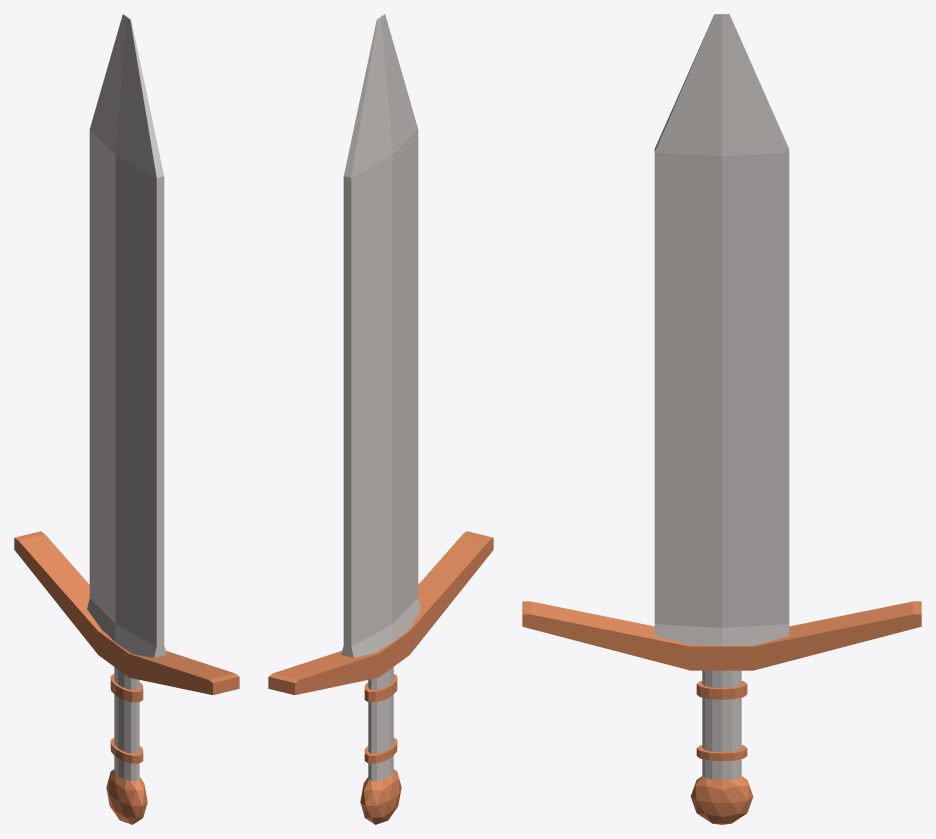
File: sword.fbx
3 renders of one model, left to right at view 1: azimuth 30°, elevation 25°; view 2: azimuth 150°, elevation 25°; view 3: azimuth 270°, elevation 25°, orthographic.
Visible parts, largest first — view 1: Cube.001, Cube, Cylinder, Icosphere; view 2: Cube.001, Cube, Cylinder, Icosphere; view 3: Cube.001, Cube, Cylinder, Icosphere.
Boxes of the visible parts, bbox=[...] form: Cube.001: bbox=[87, 14, 166, 657]; Cube: bbox=[14, 531, 239, 694]; Cylinder: bbox=[110, 667, 143, 781]; Icosphere: bbox=[106, 769, 147, 824]; Cube.001: bbox=[341, 14, 420, 657]; Cube: bbox=[268, 531, 493, 694]; Cylinder: bbox=[364, 667, 397, 781]; Icosphere: bbox=[360, 769, 401, 824]; Cube.001: bbox=[654, 14, 789, 646]; Cube: bbox=[522, 601, 921, 670]; Cylinder: bbox=[696, 670, 747, 780]; Icosphere: bbox=[690, 776, 753, 824].
Bounding box in the file's own units: 18.28 × 530 × 237.
